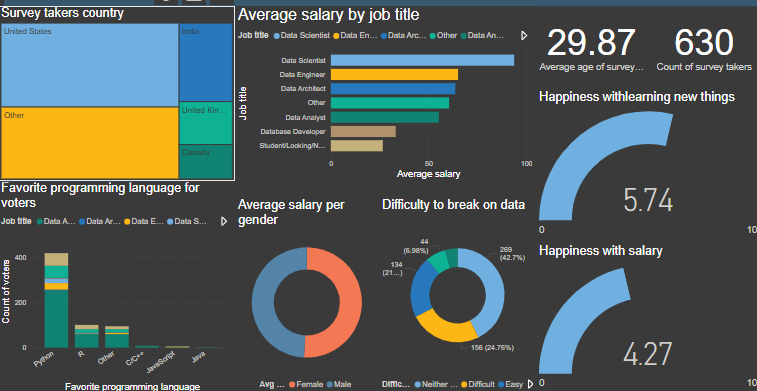

What the dashboard file says about the page in this screenshot:
{"tool":"powerbi","page":{"name":"Page 1","canvas":[1280,720],"ordinal":0},"visuals":[{"type":"textbox","box":[10.1,0,1269.9,65.5],"z":0},{"type":"card","fields":{"Values":["Data Professional Survey.Email"]},"box":[1091.1,66.4,188.9,127.7],"z":1000},{"type":"card","fields":{"Values":["Data Professional Survey.Q10 - Current Age"]},"box":[904,66.4,187.1,127.7],"z":2000},{"type":"barChart","title":"Average salary by job title","fields":{"Category":["Data Professional Survey.Q1 - Which Title Best Fits your Current Role?.1"],"Y":["Data Professional Survey.Avg_salary"],"Series":["Data Professional Survey.Q1 - Which Title Best Fits your Current Role?.1"]},"box":[398.7,64.7,505.4,295.5],"z":3000},{"type":"columnChart","title":"Favorite programming language for voters","fields":{"Category":["Data Professional Survey.Q5 - Favorite Programming Language.1","Data Professional Survey.Q1 - Which Title Best Fits your Current Role?.1"],"Y":["Data Professional Survey.Unique ID"],"Series":["Data Professional Survey.Q1 - Which Title Best Fits your Current Role?.1"]},"box":[0,360.2,398.7,360.2],"z":4000},{"type":"treemap","title":"Survey takers country","fields":{"Group":["Data Professional Survey.Q11 - Which Country do you live in?.1"],"Values":["Data Professional Survey.Q11 - Which Country do you live in?.1"]},"box":[0,64.7,398.7,295.5],"z":5000},{"type":"gauge","title":"Happiness withlearning new things","fields":{"Y":["Data Professional Survey.Q6 - How Happy are you in your Current Position with the following? (Work/Life Balance)"],"MinValue":["Sum(Data Professional Survey.Q6 - How Happy are you in your Current Position with the following? (Work/Life Balance))1"],"MaxValue":["Sum(Data Professional Survey.Q6 - How Happy are you in your Current Position with the following? (Work/Life Balance))2"]},"box":[903.6,206.8,376.4,257.7],"z":6000},{"type":"gauge","title":"Happiness with salary","fields":{"Y":["Data Professional Survey.Q6 - How Happy are you in your Current Position with the following? (Salary)"],"MinValue":["Data Professional Survey.Q6 - How Happy are you in your Current Position with the following? (Salary)"],"MaxValue":["Sum(Data Professional Survey.Q6 - How Happy are you in your Current Position with the following? (Salary))1"]},"box":[903.6,464.5,376.4,256],"z":7000},{"type":"donutChart","title":"Average salary per gender","fields":{"Category":["Data Professional Survey.Q9 - Male/Female?"],"Y":["Data Professional Survey.Avg_salary"]},"box":[398.7,388.2,241.3,332.2],"z":8000},{"type":"donutChart","title":"Difficulty to break on data","fields":{"Category":["Data Professional Survey.Q7 - How difficult was it for you to break into Data?"],"Y":["Data Professional Survey.Q7 - How difficult was it for you to break into Data?"]},"box":[640,388,264,332],"z":9000}]}

Visuals, with their boxes on the page's 1280x720 design canvas (x1, y1, x2, y2). These are canvas units, not pixel positions in the 757x391 screenshot, which may show the page scaled, cropped or inside an application window:
textbox: bbox=[10, 0, 1280, 66]
card - Data Professional Survey.Email: bbox=[1091, 66, 1280, 194]
card - Data Professional Survey.Q10 - Current Age: bbox=[904, 66, 1091, 194]
"Average salary by job title" barChart: bbox=[399, 65, 904, 360]
"Favorite programming language for voters" columnChart: bbox=[0, 360, 399, 720]
"Survey takers country" treemap: bbox=[0, 65, 399, 360]
"Happiness withlearning new things" gauge: bbox=[904, 207, 1280, 464]
"Happiness with salary" gauge: bbox=[904, 464, 1280, 720]
"Average salary per gender" donutChart: bbox=[399, 388, 640, 720]
"Difficulty to break on data" donutChart: bbox=[640, 388, 904, 720]
